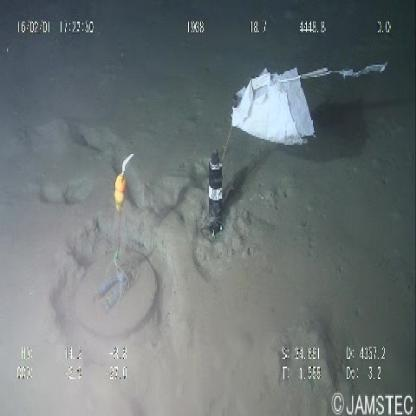Rov: (74, 144, 227, 338)
Rác: (228, 56, 389, 154)
